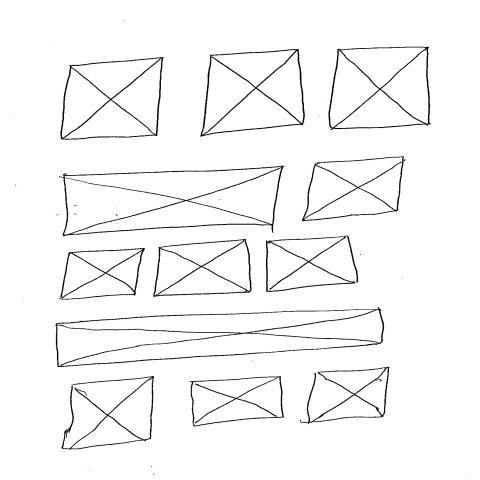Image: (56, 309, 386, 370), (62, 165, 285, 238), (199, 49, 308, 138), (59, 56, 166, 142), (327, 46, 431, 131), (60, 376, 155, 452), (301, 156, 408, 222), (154, 240, 255, 297), (265, 236, 362, 295), (59, 247, 148, 302), (305, 369, 393, 424), (190, 378, 286, 428)
